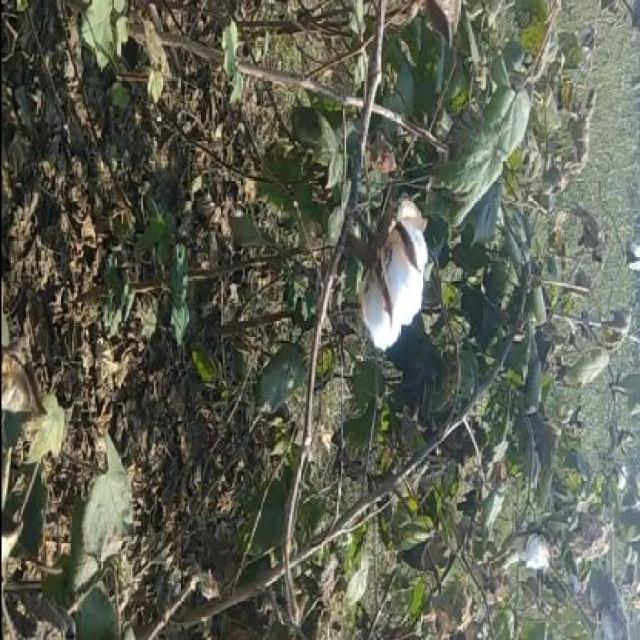cotton_ready: (343, 164, 445, 376)
